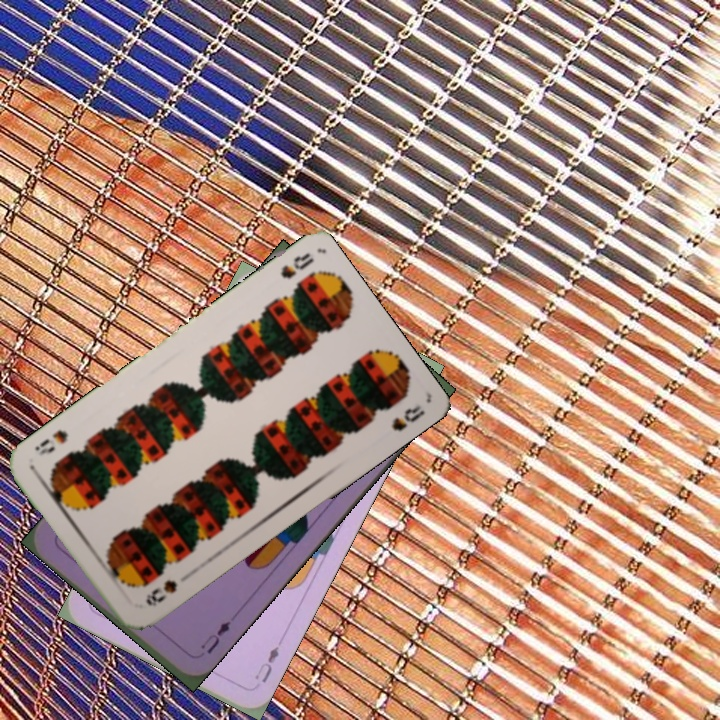EU: (196, 617, 233, 657), (250, 642, 282, 686)
S8: (276, 249, 317, 282), (141, 576, 180, 610)
